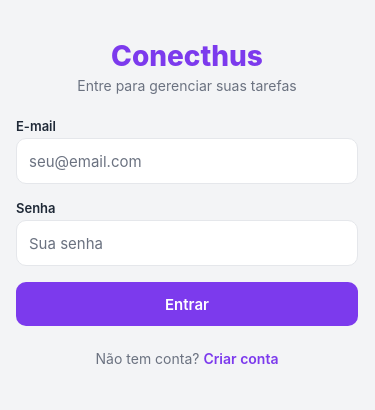
Test: LoginScreen › shows validation error when fields empty
This screenshot has width=375, height=410.
Click the button with test id "login-submit": (187, 304) [16,282,358,326]
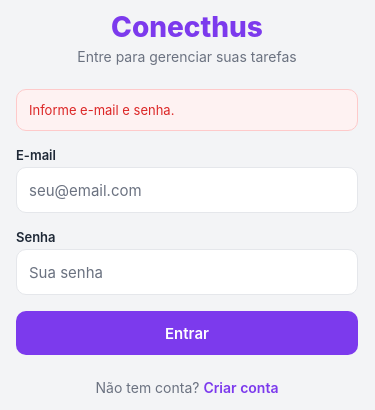
Now the element with test id "login-error" is shown, box [16,89,358,131]
Now the text "Informe e-mail e senha." is shown, box [29,102,174,118]
